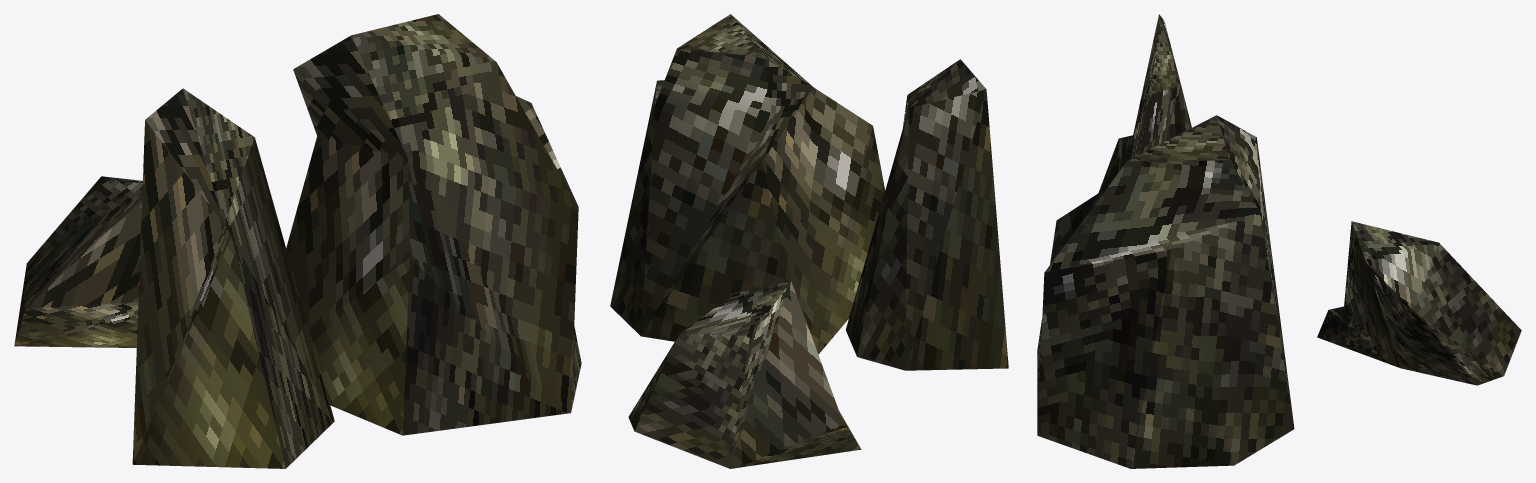
The model's file is Environment - Prop - Rock Cluster Large 01 - Damaged - PMlclusters_D.glb.
3 renders of one model, left to right at view 1: azimuth 30°, elevation 25°; view 2: azimuth 150°, elevation 25°; view 3: azimuth 270°, elevation 25°, orthographic. The views are drawn at different scales.
Visible parts, largest first — view 1: PMLCLUSTERS_D; view 2: PMLCLUSTERS_D; view 3: PMLCLUSTERS_D.
Boxes of the visible parts, x1,y1,x2,y2 form: PMLCLUSTERS_D: [14, 14, 581, 468]; PMLCLUSTERS_D: [610, 14, 1008, 468]; PMLCLUSTERS_D: [1037, 14, 1521, 468].
Size of the model in its own units: 31.21 by 24.66 by 35.8.
Materials: 1 (1 with a texture image).
